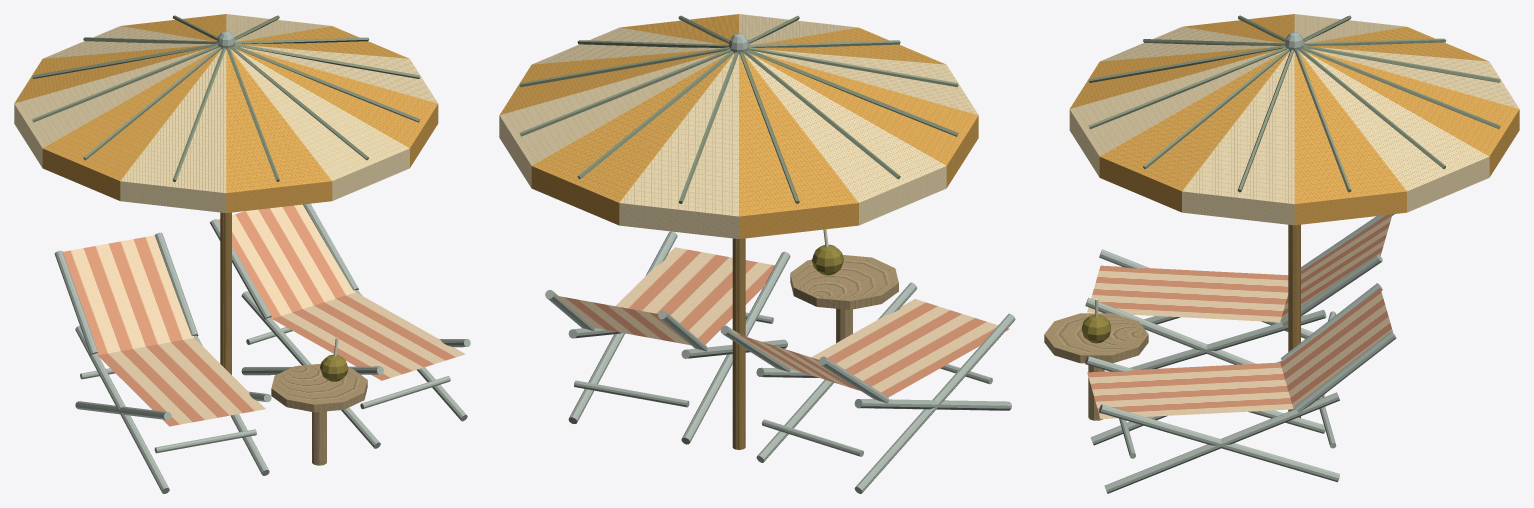
Rendered from umbrella-loungers.glb.
3 views of the same model, side by side, from view 1: azimuth 30°, elevation 25°; view 2: azimuth 150°, elevation 25°; view 3: azimuth 270°, elevation 25° (orthographic). The views are drawn at different scales.
Parts seen in each view (by area): view 1: umbrella-loungers; view 2: umbrella-loungers; view 3: umbrella-loungers.
Boxes of the visible parts, x1,y1,x2,y2 form: umbrella-loungers: (14,14,470,493); umbrella-loungers: (499,14,1015,493); umbrella-loungers: (1044,14,1519,493).
Bounding box in the file's own units: 2.5 × 2.38 × 2.64.
1 material, 1 textured.
